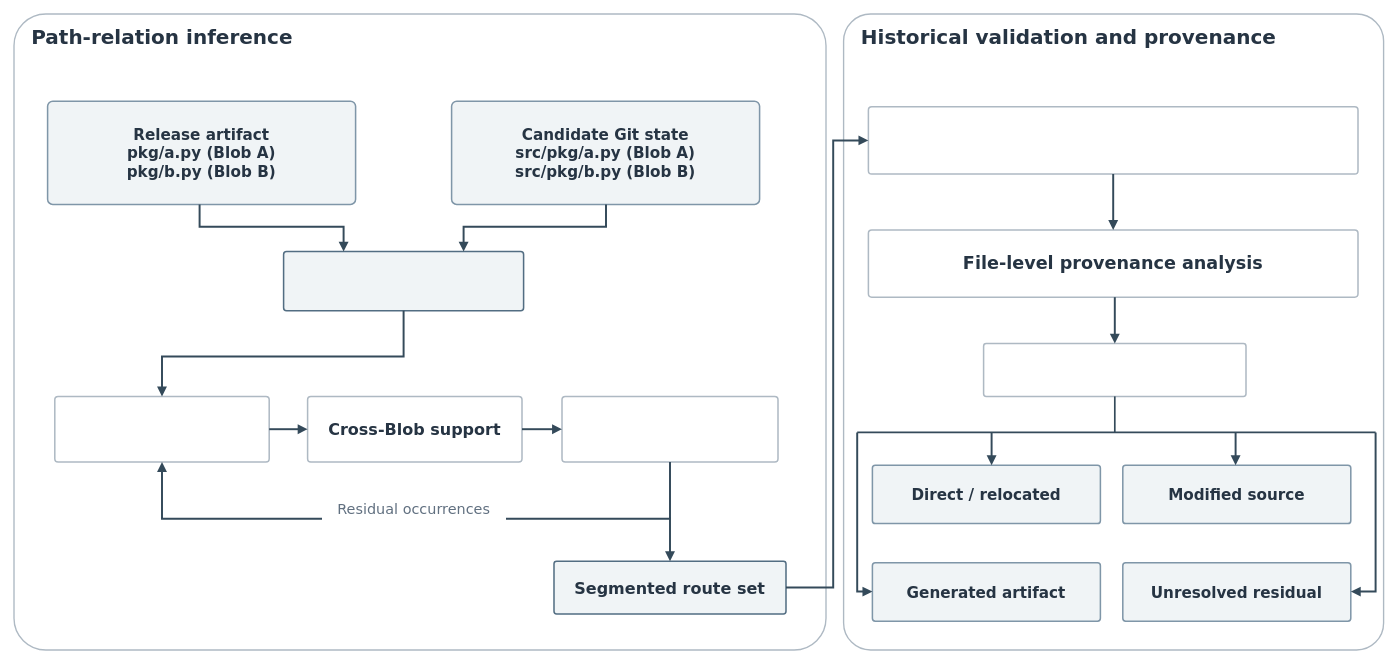
This 1398x665 diagram has some shape labels left out. The box of each missing label's shape, as (x1, y1, x2, y2) in pixels:
Exact-content anchors: (282, 250, 524, 311)
Greedy route selection: (561, 395, 778, 462)
Provenance attribution: (982, 342, 1246, 397)
Route hypotheses pkg/s → src/pkg/s: (54, 395, 270, 462)
Route-guided historical validation: (867, 106, 1358, 174)
